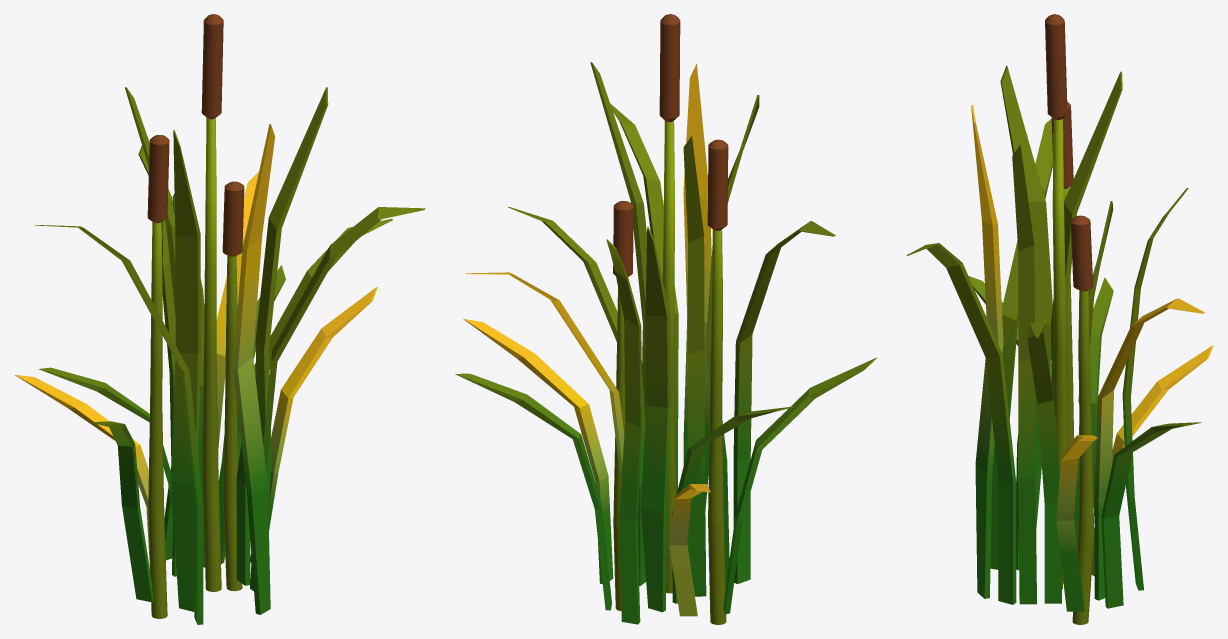
Rendered from Rohrkolben.fbx.
3 renders of one model, left to right at view 1: azimuth 30°, elevation 25°; view 2: azimuth 150°, elevation 25°; view 3: azimuth 270°, elevation 25°, orthographic.
Visible parts, largest first — view 1: Cube.018, Cylinder.001, Cube.005, Cube.012, Cylinder.004, Cube.004, Cube.006, Cylinder.005, Cylinder.003; view 2: Cube.018, Cylinder.001, Cube.005, Cube.012, Cube.006, Cylinder.004, Cube.004, Cylinder.005, Cylinder.003; view 3: Cube.018, Cylinder.001, Cube.005, Cube.004, Cube.012, Cylinder.004, Cube.006, Cylinder.003, Cylinder.005.
Boxes of the visible parts, <box> form: Cube.018: <box>35,87,425,624</box>; Cylinder.001: <box>148,118,242,618</box>; Cube.005: <box>233,124,274,614</box>; Cube.012: <box>250,286,377,562</box>; Cylinder.004: <box>201,14,223,119</box>; Cube.004: <box>201,172,258,567</box>; Cube.006: <box>15,375,150,570</box>; Cylinder.005: <box>147,135,169,223</box>; Cylinder.003: <box>222,181,244,256</box>; Cube.018: <box>455,62,877,624</box>; Cylinder.001: <box>613,121,726,624</box>; Cube.005: <box>683,63,711,510</box>; Cube.012: <box>463,319,613,584</box>; Cube.006: <box>669,484,710,616</box>; Cylinder.004: <box>659,14,680,121</box>; Cube.004: <box>465,272,624,481</box>; Cylinder.005: <box>707,139,728,230</box>; Cylinder.003: <box>613,201,633,276</box>; Cube.018: <box>906,65,1201,608</box>; Cylinder.001: <box>1052,119,1094,624</box>; Cube.005: <box>971,105,1003,598</box>; Cube.004: <box>1094,298,1205,600</box>; Cube.012: <box>1056,435,1097,611</box>; Cylinder.004: <box>1045,14,1067,119</box>; Cube.006: <box>1091,345,1213,576</box>; Cylinder.003: <box>1070,215,1093,291</box>; Cylinder.005: <box>1051,102,1073,188</box>.
Bounding box in the file's own units: 283 × 447 × 211.
7 materials, 6 textured.
